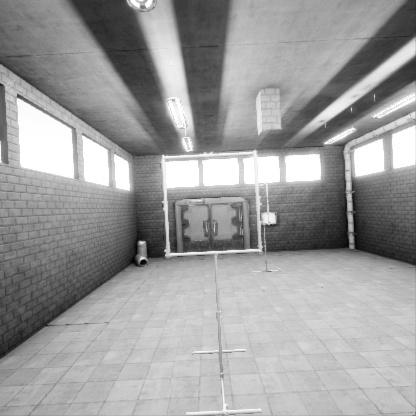gate: (167, 165, 267, 266), (257, 193, 269, 235)
